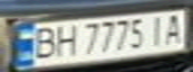5: (127, 16, 151, 51)
7: (78, 20, 100, 55), (112, 17, 133, 52), (97, 19, 118, 53)
A: (160, 11, 190, 45)
B: (24, 24, 60, 61)
H: (51, 23, 81, 57)
I: (145, 12, 172, 47)
